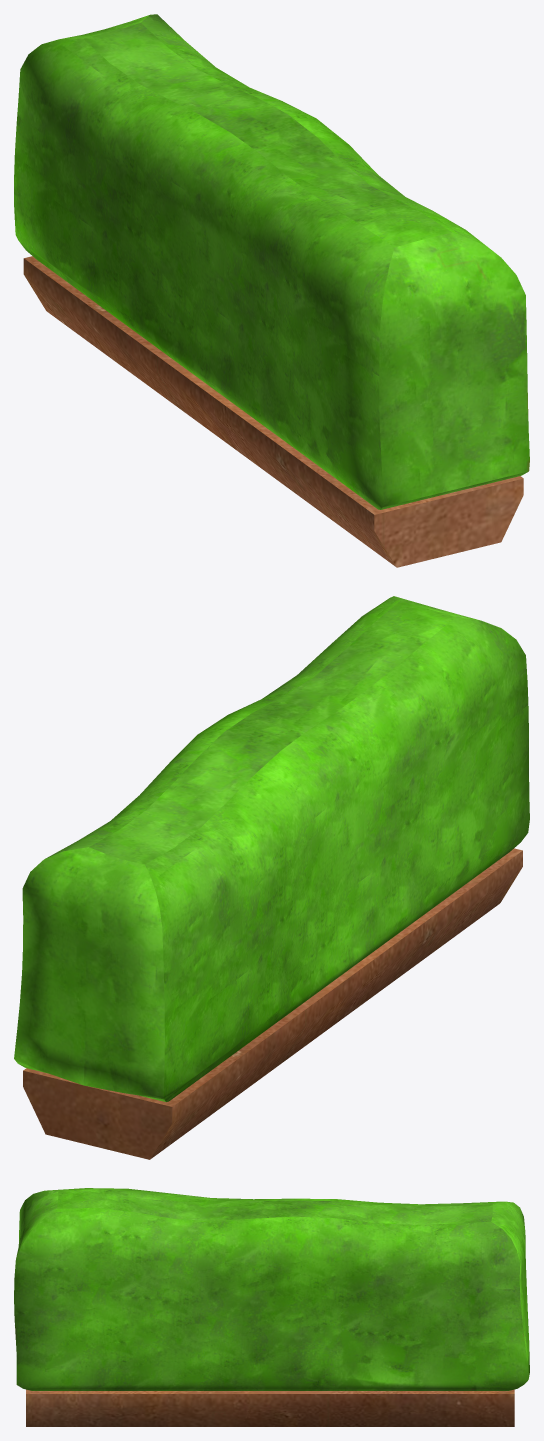
The model's file is Hedge.fbx.
3 views of the same model, one above another, from view 1: azimuth 30°, elevation 25°; view 2: azimuth 150°, elevation 25°; view 3: azimuth 270°, elevation 25° (orthographic). The views are drawn at different scales.
Parts seen in each view (by area): view 1: Box001; view 2: Box001; view 3: Box001.
Boxes of the visible parts, <box> form: Box001: <box>14,14,529,567</box>; Box001: <box>14,596,529,1159</box>; Box001: <box>14,1188,529,1426</box>.
Size of the model in its own units: 32.25 by 59.59 by 132.
